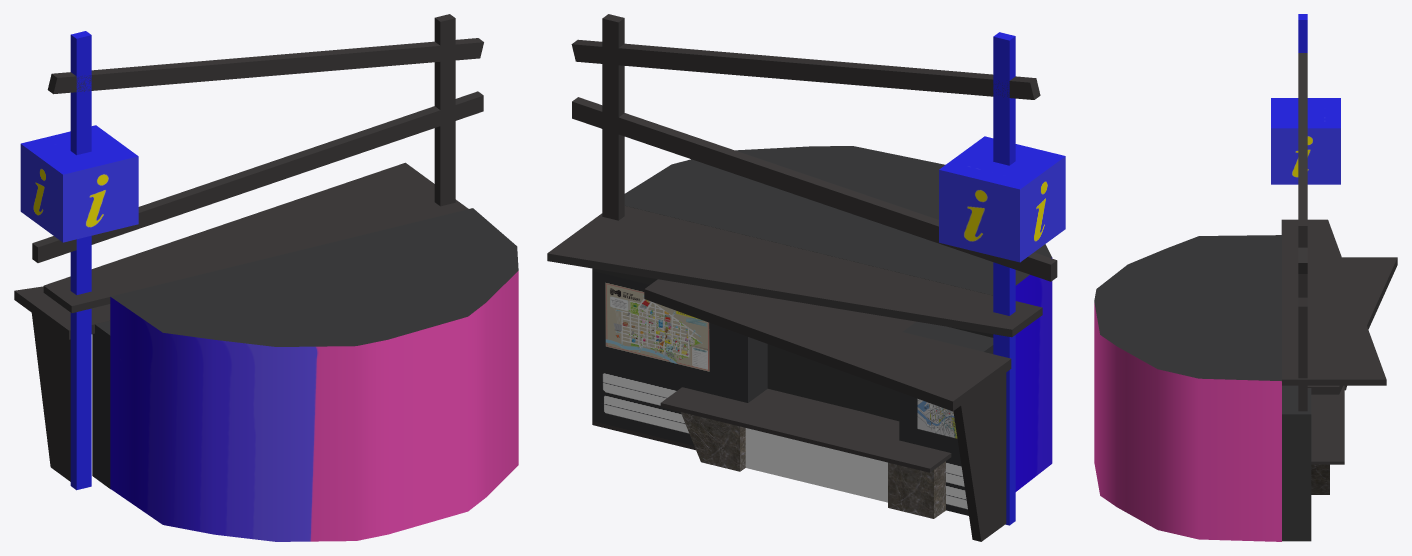
File: Textured InfoBooth Verson 3.fbx
The picture shows the model from 3 angles, left to right: view 1: azimuth 30°, elevation 25°; view 2: azimuth 150°, elevation 25°; view 3: azimuth 270°, elevation 25°; orthographic projection. The views are drawn at different scales.
Visible parts, largest first — view 1: RoofShape; view 2: RoofShape; view 3: RoofShape.
Part boxes in pixels (x1,y1,x2,y2): RoofShape: [14, 14, 518, 541]; RoofShape: [547, 14, 1065, 541]; RoofShape: [1094, 14, 1397, 541].
Bounding box in the file's own units: 359 × 347 × 256.
